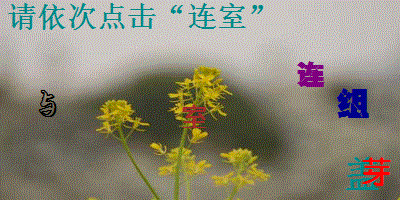text: (344, 155, 382, 192), (335, 88, 371, 120), (362, 156, 392, 186), (296, 60, 326, 88), (181, 104, 207, 131), (38, 89, 57, 119)
